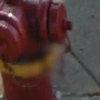Hydrant: (2, 1, 77, 100)
